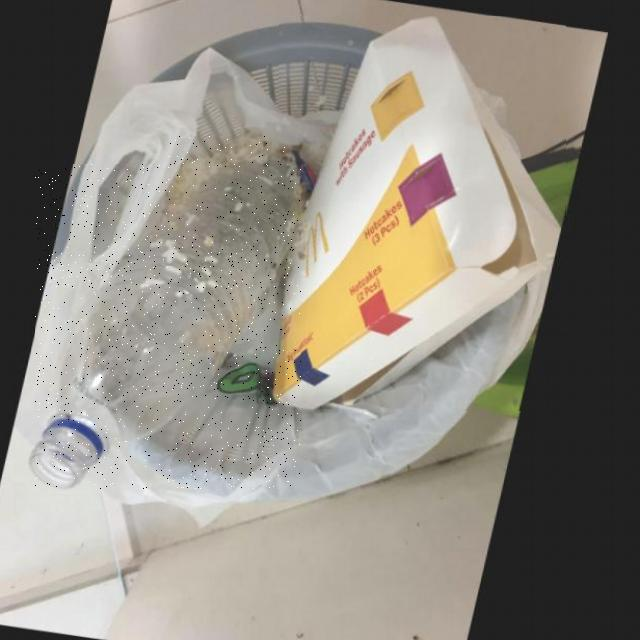biowaste: (169, 136, 290, 210)
paper: (280, 16, 566, 411)
plastic: (36, 164, 301, 489)
